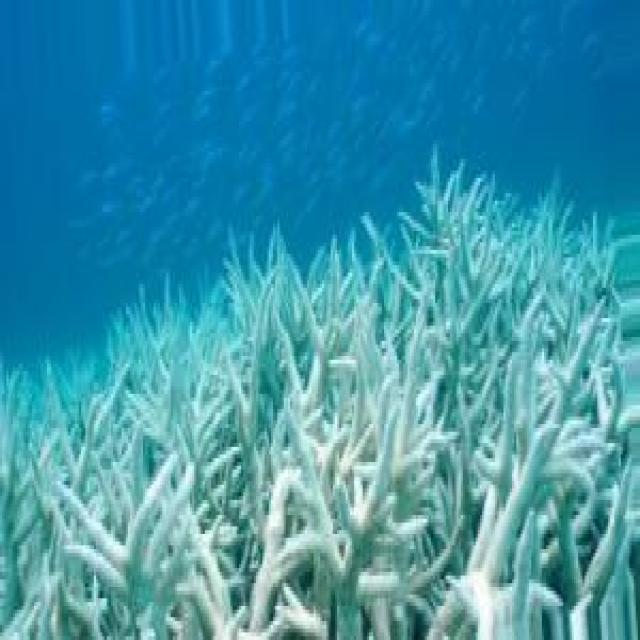bleached coral: (471, 382, 531, 572), (137, 409, 196, 595), (252, 413, 316, 549), (256, 530, 352, 613), (51, 489, 128, 591), (542, 420, 612, 526), (367, 382, 410, 534), (329, 273, 384, 352)
healthy coral: (425, 178, 572, 239), (516, 258, 612, 348), (267, 227, 316, 375), (105, 303, 201, 371), (412, 254, 474, 329), (87, 375, 128, 447), (17, 405, 64, 462)
